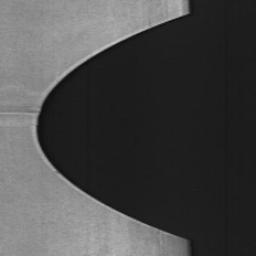Crescent gap: (37, 14, 187, 244)
